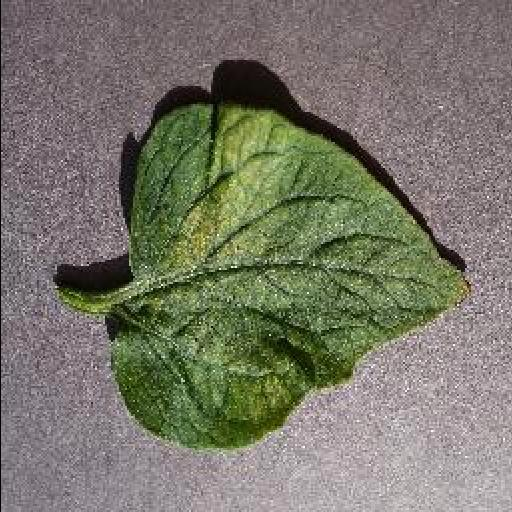disease_tomato: (106, 100, 474, 446)
